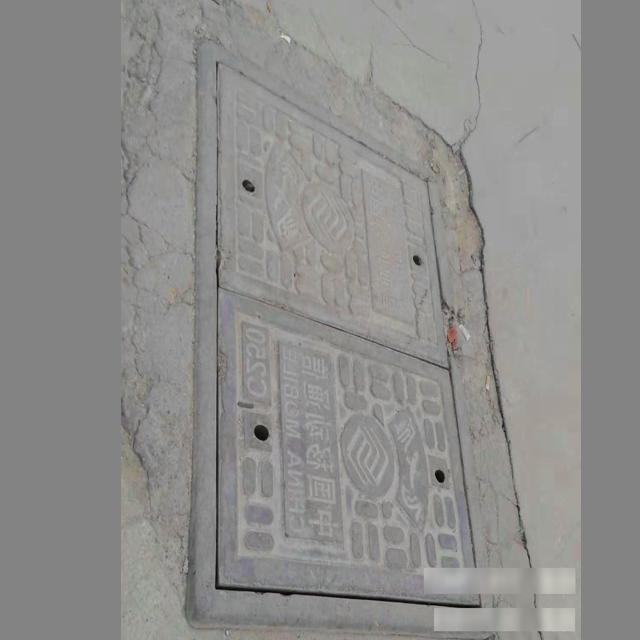good: (186, 40, 505, 633)
